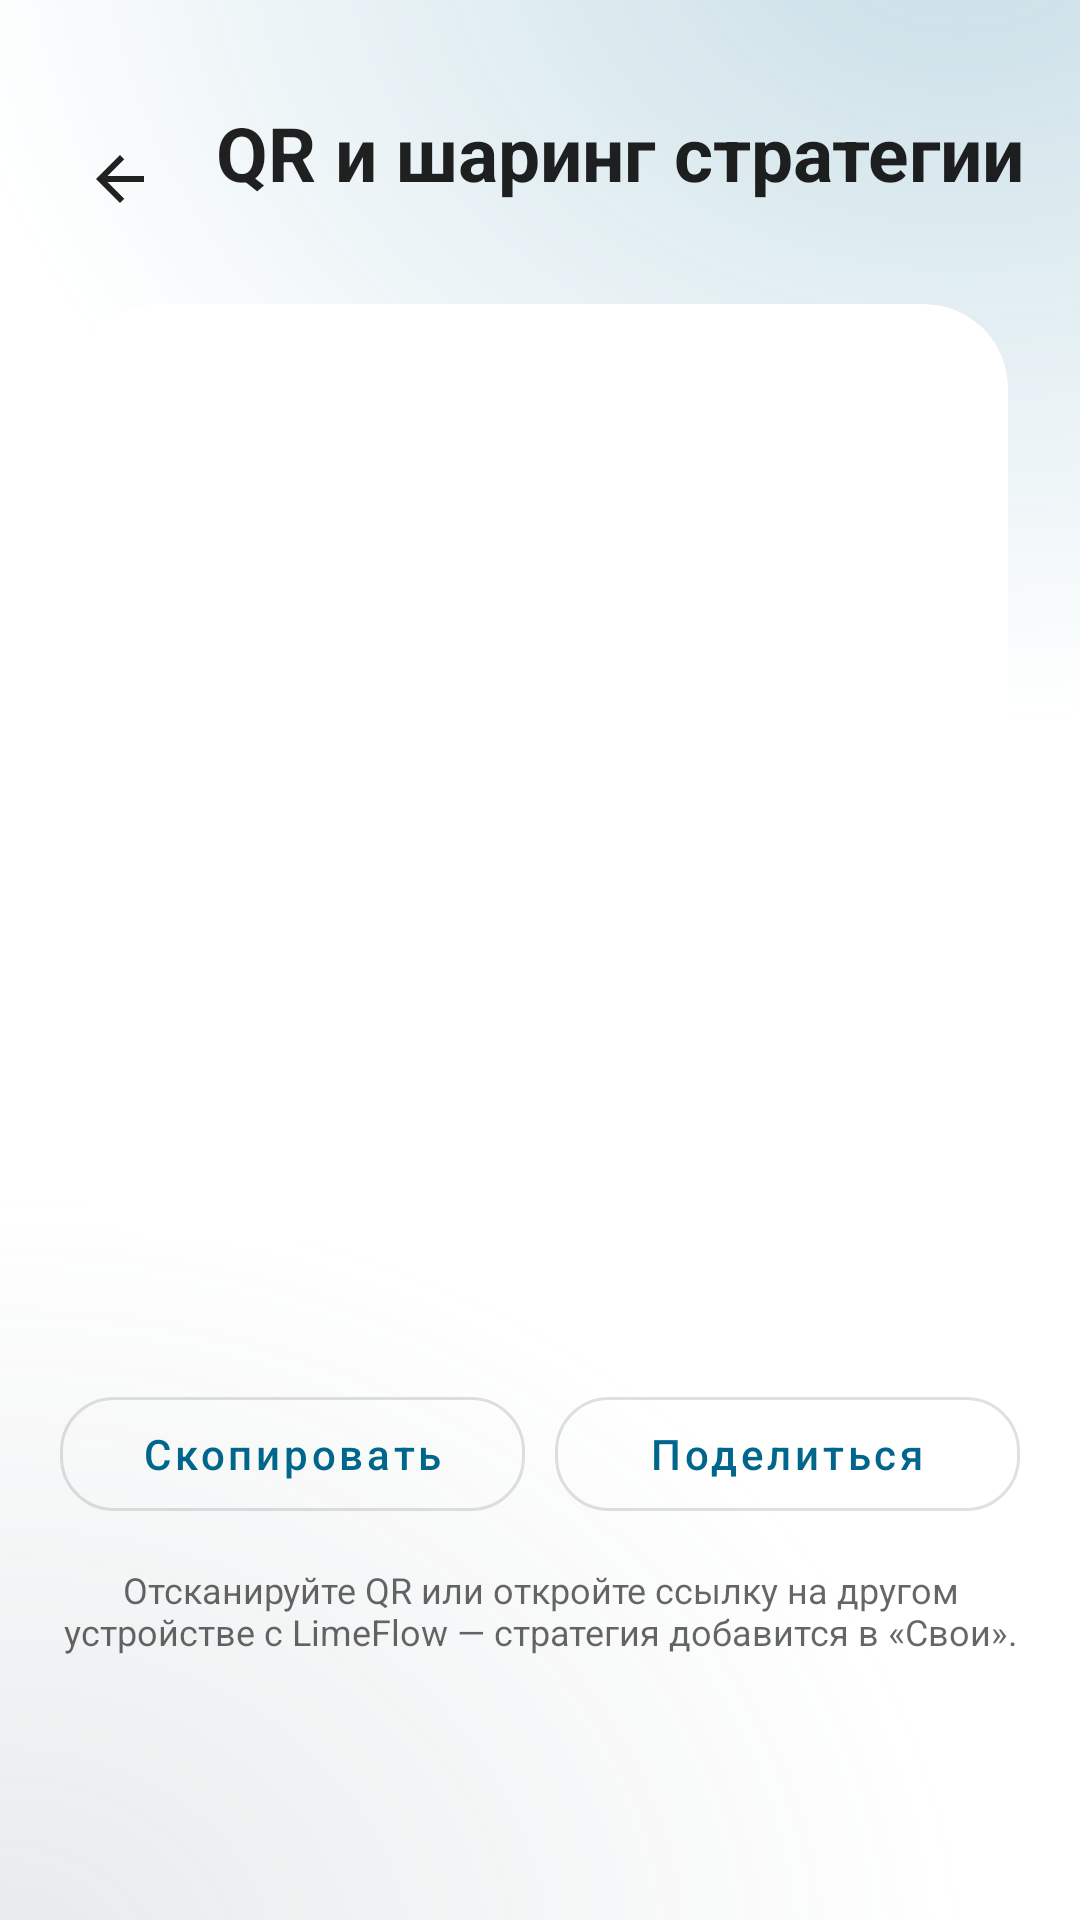

Icons on this 1080 × 1920 Android screen, each with the point to tap as point (x, y):
Назад: point (120, 179)
